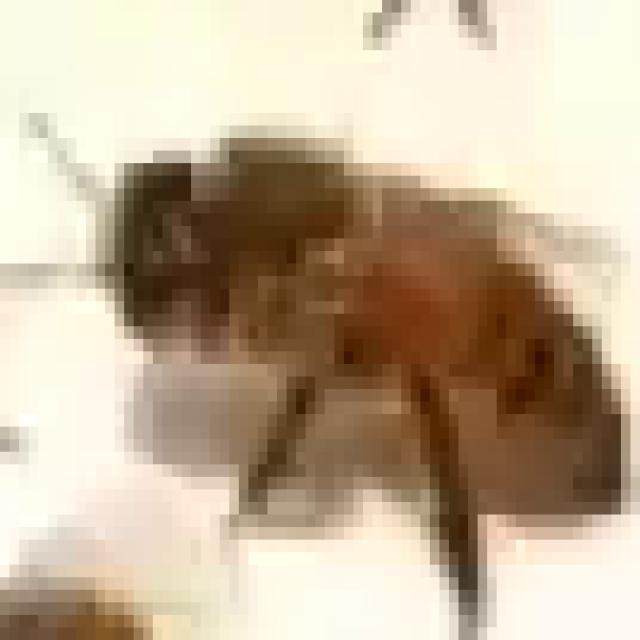honeybee: (95, 100, 640, 589)
